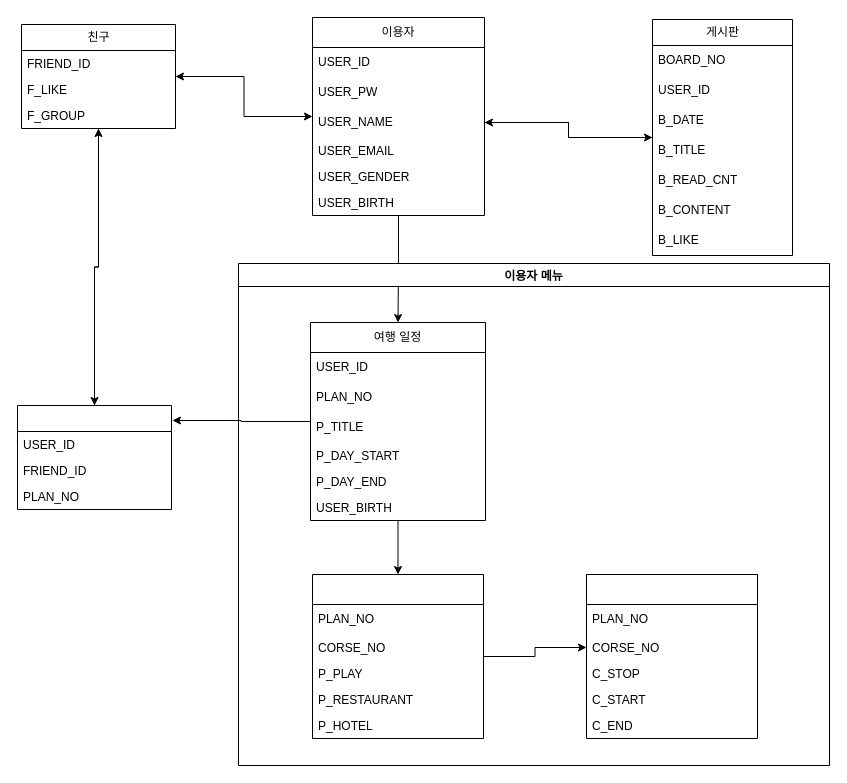
Some shapes in this 847 by 783 pixel diagram are drawn without their labels. The shapes that lost their labels are listed below. From the top down, each one's box as (x1, y1, x2, y2) in pixels, then its label:
(16, 404, 172, 510): 그룹
(312, 574, 484, 738): 여행 계획
(586, 574, 758, 738): 코스
